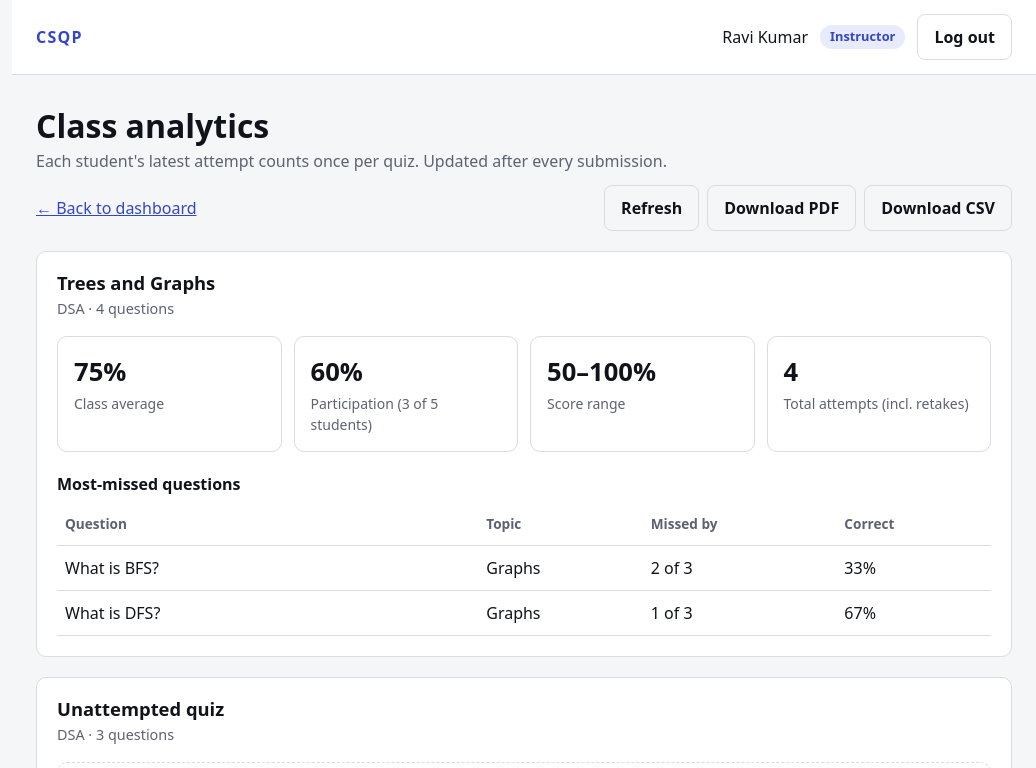
Scenario: Class analytics page (CSQP-28) › refresh fetches the latest numbers
Check: the text "75%" is shown, box 74,354 -> 126,389
What coordinates should you click on to do the following:
click the button "Refresh"
I would click on:
 (652, 208)
Its box is 604,185 -> 699,231.
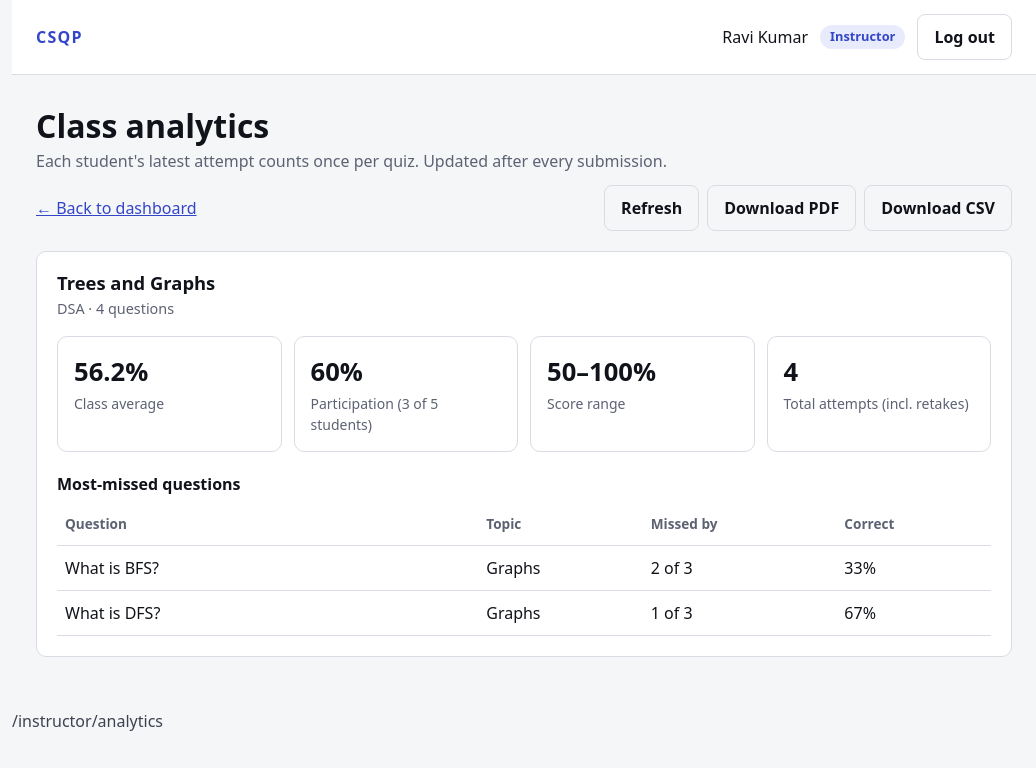
Check: the text "56.2%" is shown, box 74,354 -> 148,389
